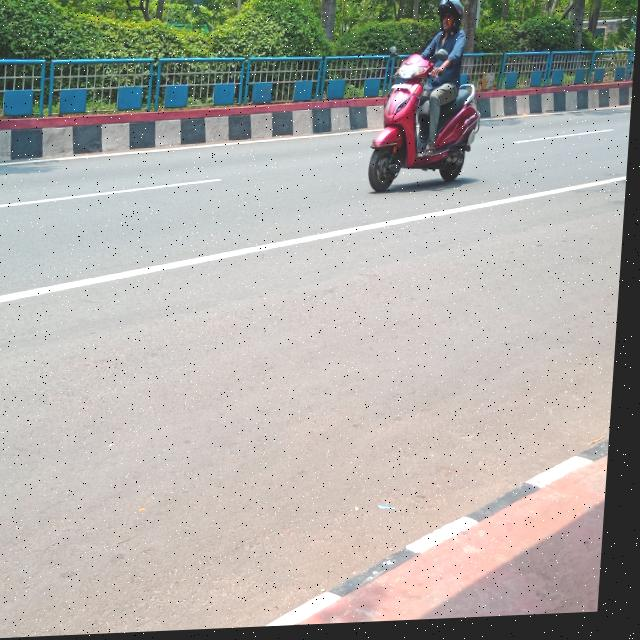bike: (369, 59, 487, 197)
